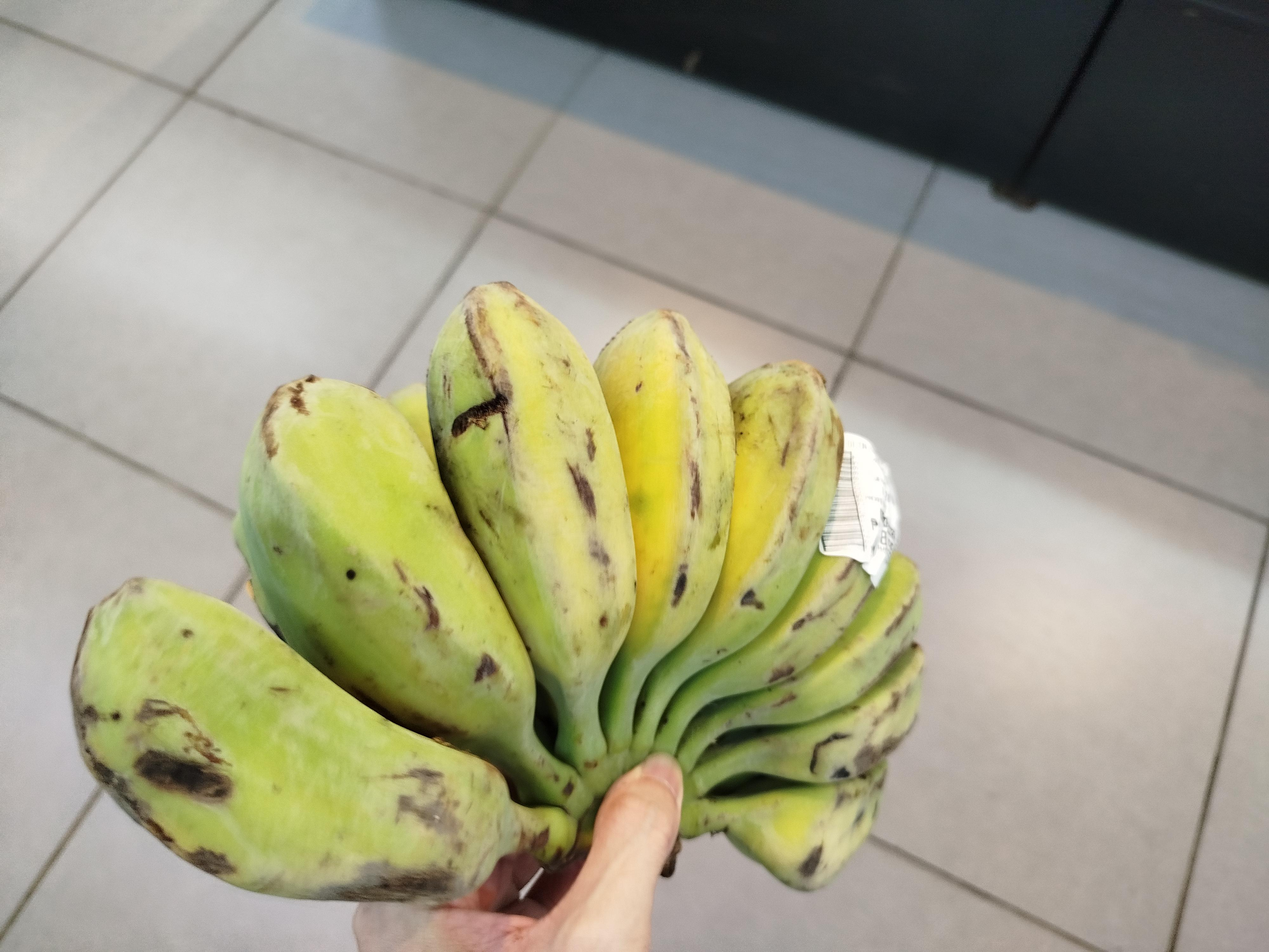underripe: (71, 282, 923, 901)
